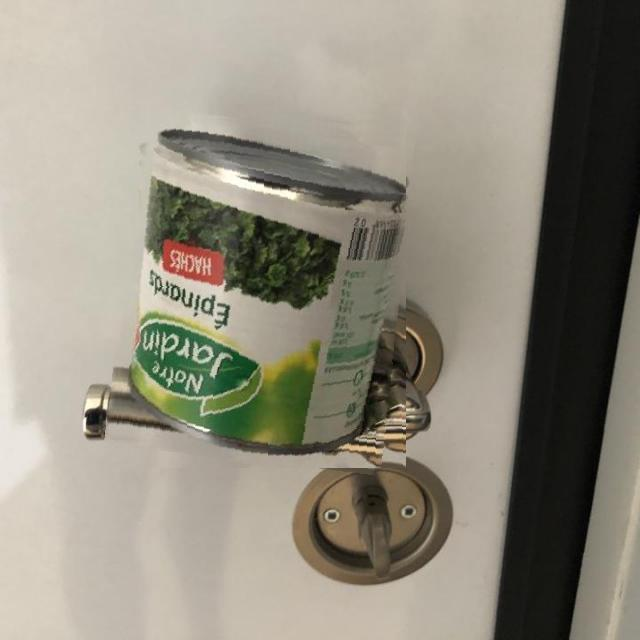recyclable: (114, 115, 406, 468)
